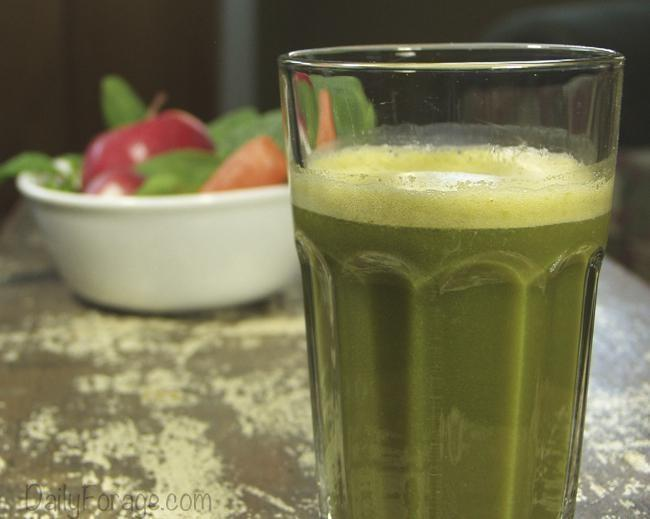glass-normal: (276, 41, 629, 518)
